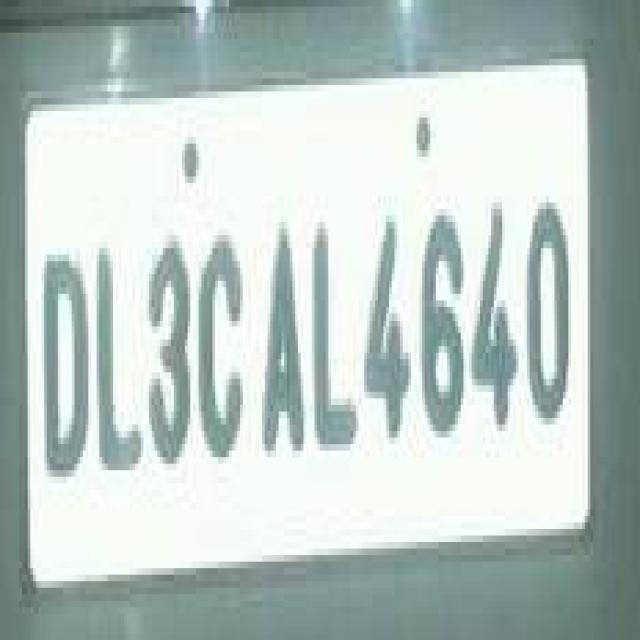license_plate: (25, 65, 585, 568)
